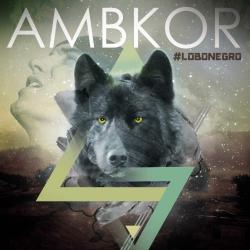Lobo: (57, 57, 205, 190)
